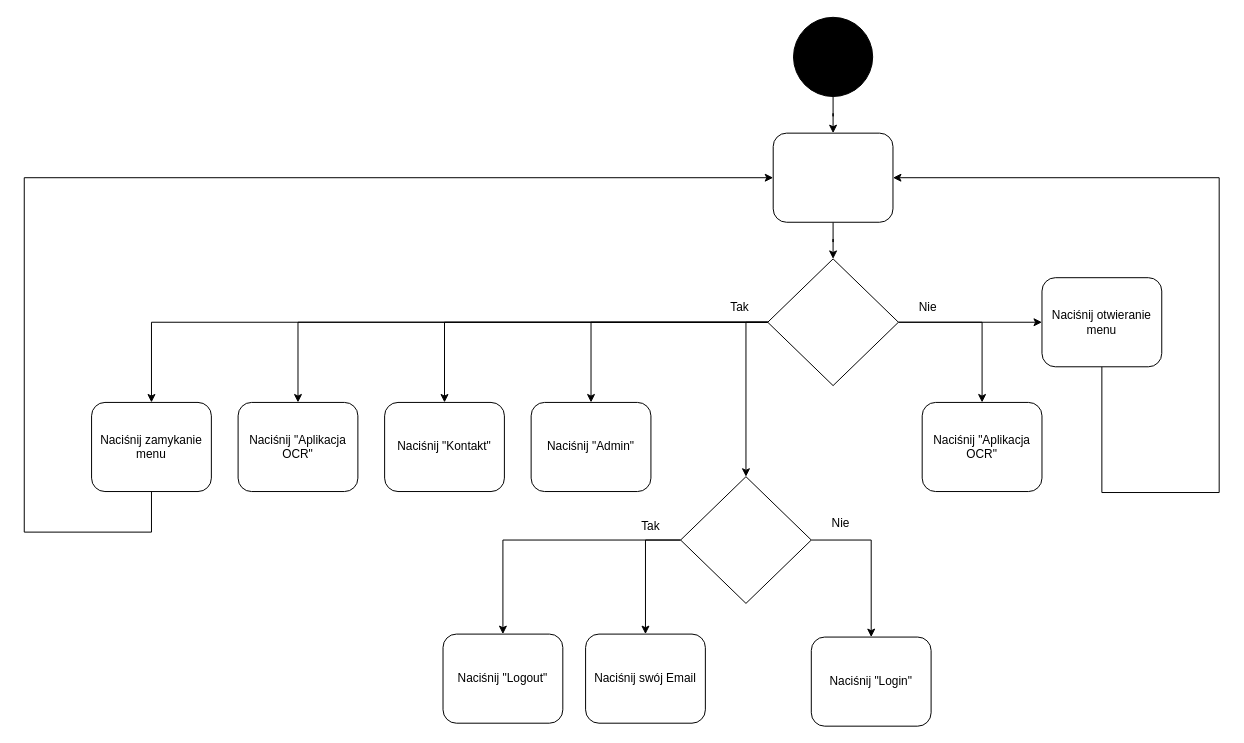
Some shapes in this 1244 by 743 pixel diagram are drawn without their labels. The centre of each missing label's shape, as x and y in pixels:
"Panel nawigacyjny" goes at point 832,177.
"Panel nawigacyjny otwarty?" goes at point 832,322.
"Użytkownik zalogowany?" goes at point 745,539.
